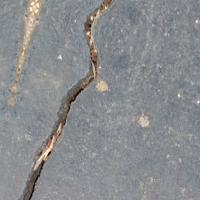crack: (19, 0, 133, 199)
